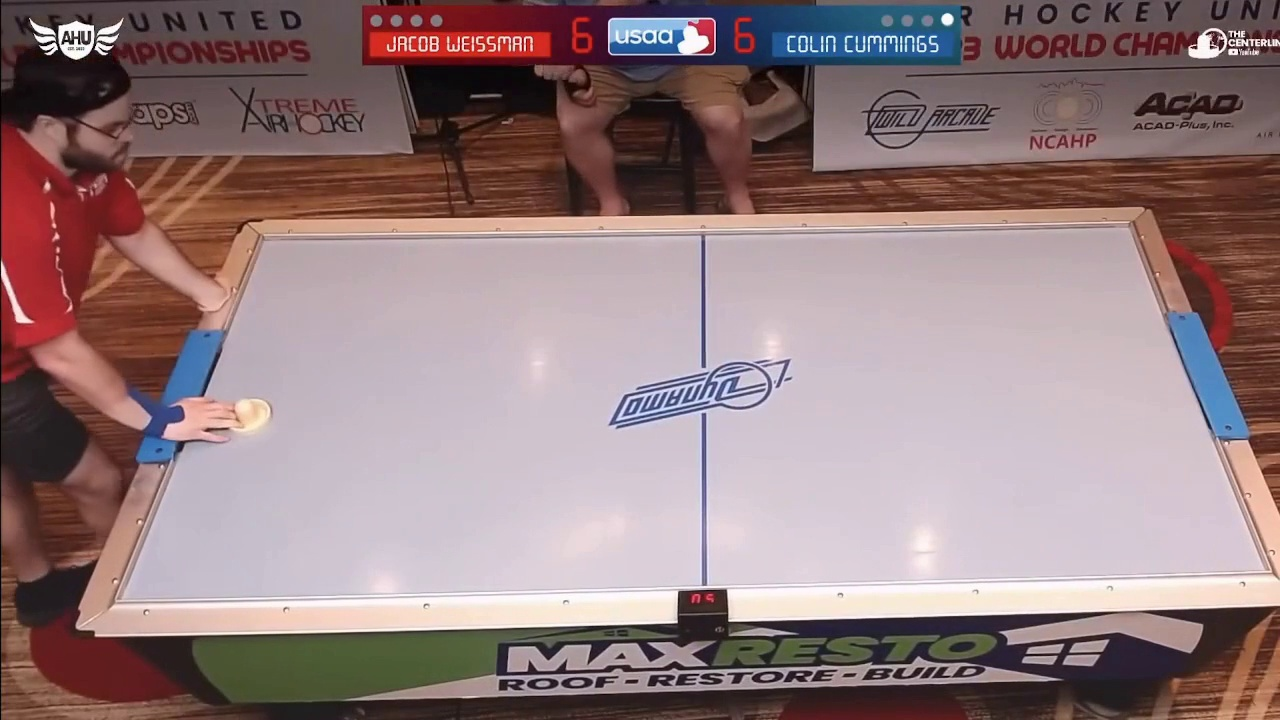player: (221, 397, 274, 432)
table: (120, 222, 1274, 595)
